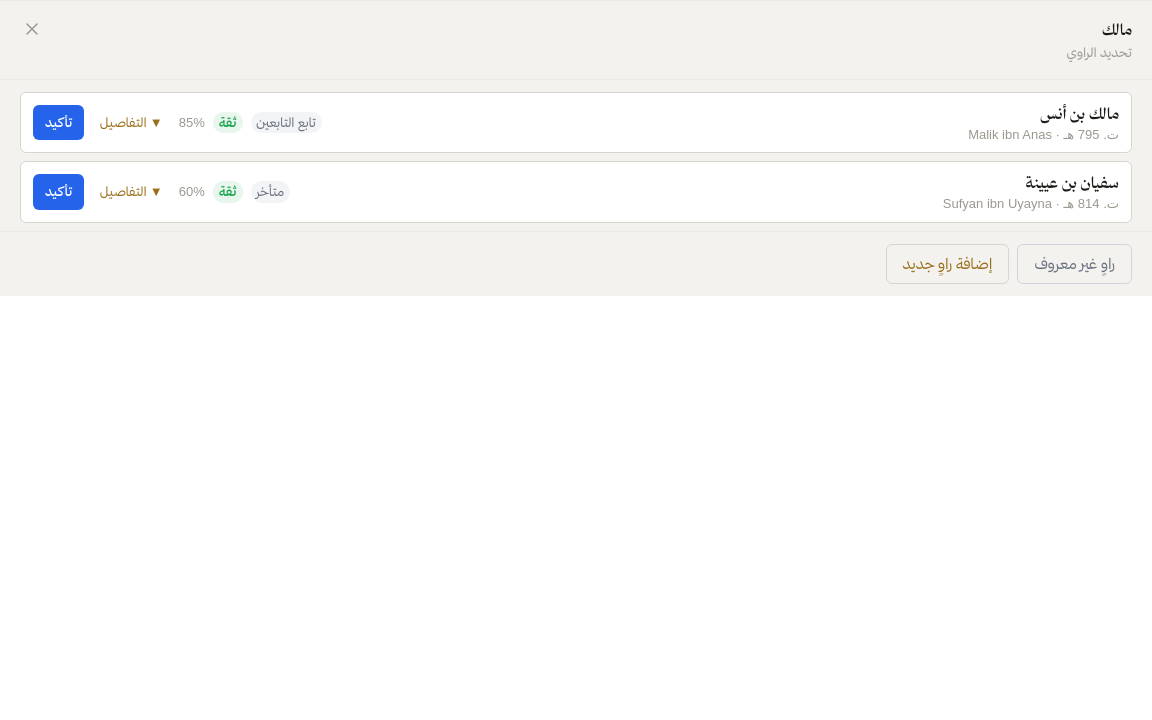
Test: NarratorDisambiguationPanel › clicking إضافة راوٍ جديد shows the add form and hides candidate list
Expected: the list item that starts with "مالك بن أنس" is shown, [20,92,1132,153]
Click the button "إضافة راوٍ جديد".
click(948, 264)  # box [886,244,1010,284]
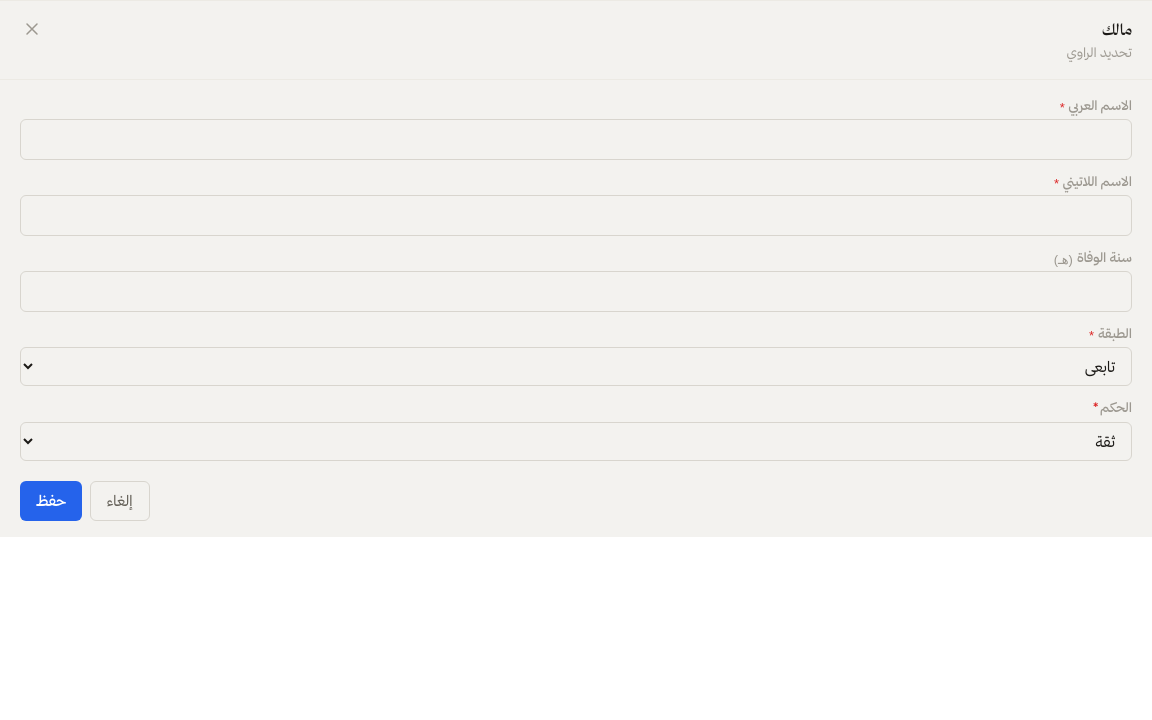
Expected: no list items are shown
Expected: the field labelled "الاسم العربي" is shown, [20,119,1132,160]
Expected: the field labelled "الاسم اللاتيني" is shown, [20,195,1132,236]
